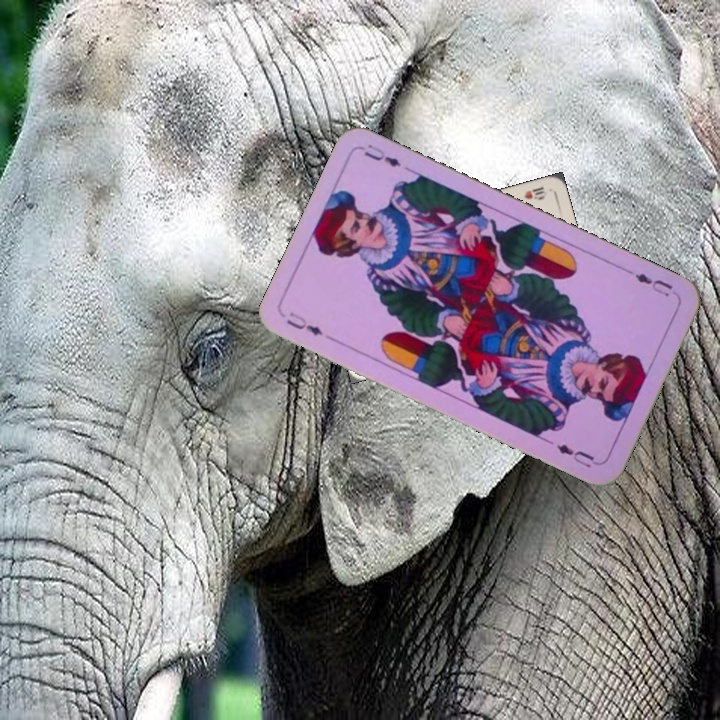EU: (631, 269, 675, 300), (282, 308, 326, 339)
H10: (520, 182, 550, 202)
